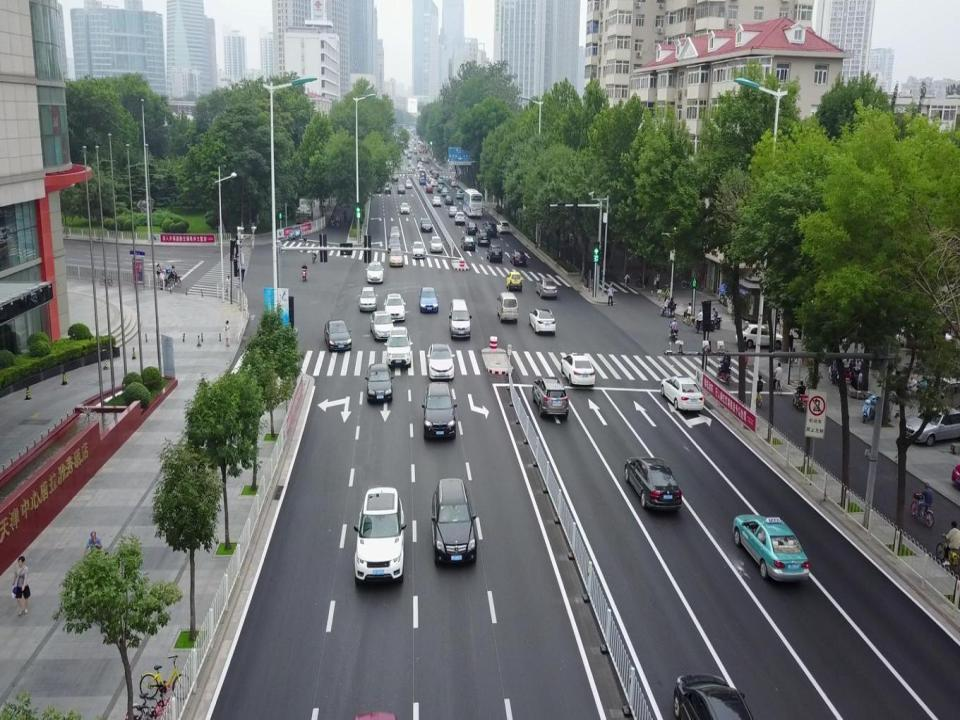bus: (462, 188, 483, 216)
car: (733, 513, 809, 582), (353, 487, 407, 582), (432, 476, 477, 564), (625, 456, 682, 510), (906, 407, 960, 446), (422, 381, 458, 437), (531, 375, 569, 418), (659, 375, 703, 412), (735, 323, 785, 349), (560, 352, 595, 387), (384, 327, 413, 367), (365, 363, 394, 401), (426, 343, 455, 379), (324, 319, 352, 351), (369, 310, 395, 340), (529, 308, 556, 334), (383, 292, 406, 320), (419, 287, 439, 313), (359, 286, 378, 312), (535, 277, 558, 297), (366, 261, 384, 282), (485, 243, 502, 262), (506, 272, 522, 291), (388, 248, 404, 266), (410, 241, 426, 259), (475, 228, 491, 246), (510, 250, 526, 266), (481, 221, 497, 237), (460, 236, 476, 251), (388, 236, 402, 252), (429, 236, 443, 252), (495, 220, 510, 234), (420, 218, 433, 232), (465, 221, 478, 235), (100, 272, 112, 285), (389, 225, 401, 238), (454, 212, 466, 224), (400, 202, 410, 214), (448, 206, 458, 217), (431, 196, 441, 206), (444, 194, 453, 204), (456, 188, 464, 199), (384, 183, 392, 193), (440, 186, 448, 196), (398, 184, 406, 193), (391, 173, 399, 182), (450, 178, 458, 186), (436, 184, 444, 192), (405, 180, 412, 188), (437, 176, 444, 184), (430, 179, 438, 186), (426, 184, 432, 193), (420, 177, 426, 184)
van: (448, 298, 472, 338), (496, 292, 518, 323)
